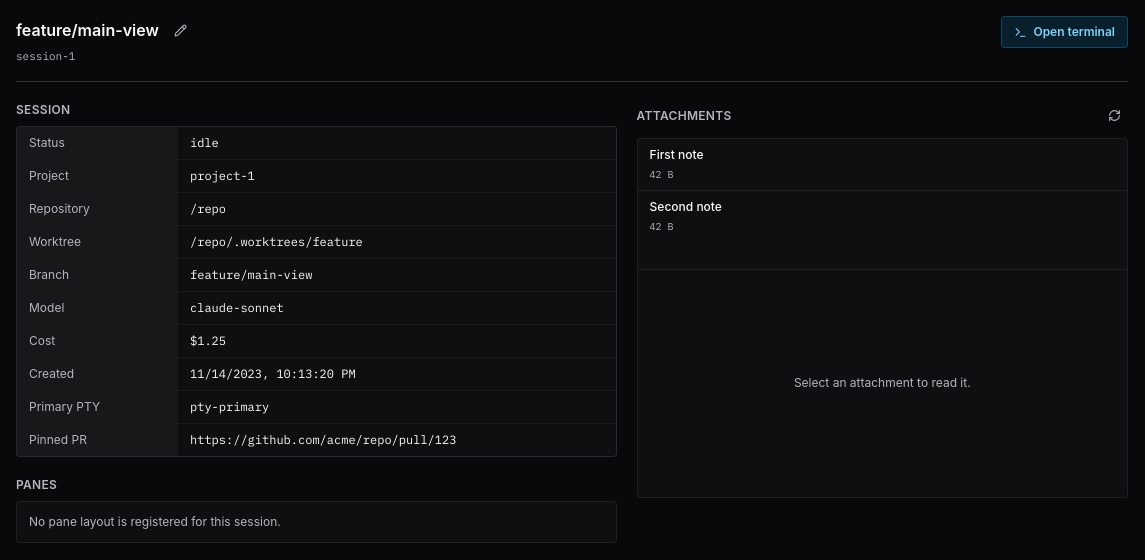
SessionDetailView › ignores stale attachment reads when a later selection resolves first
This screenshot has width=1145, height=560.
Click the button "First note 42 B": (677, 154) [638,138,1127,190]
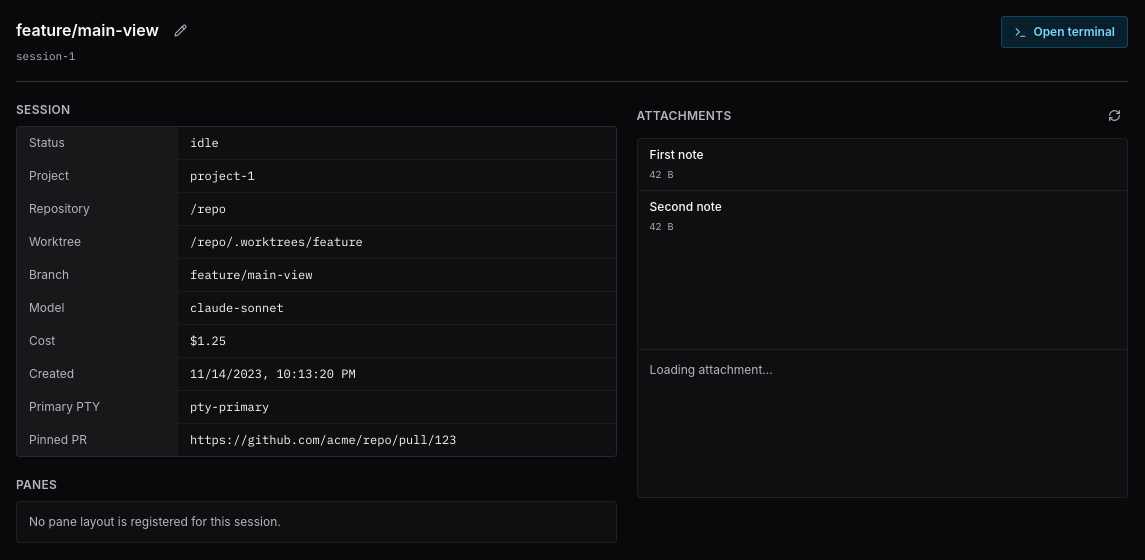
Click the button "Second note 42 B": (686, 206) [638,190,1127,242]
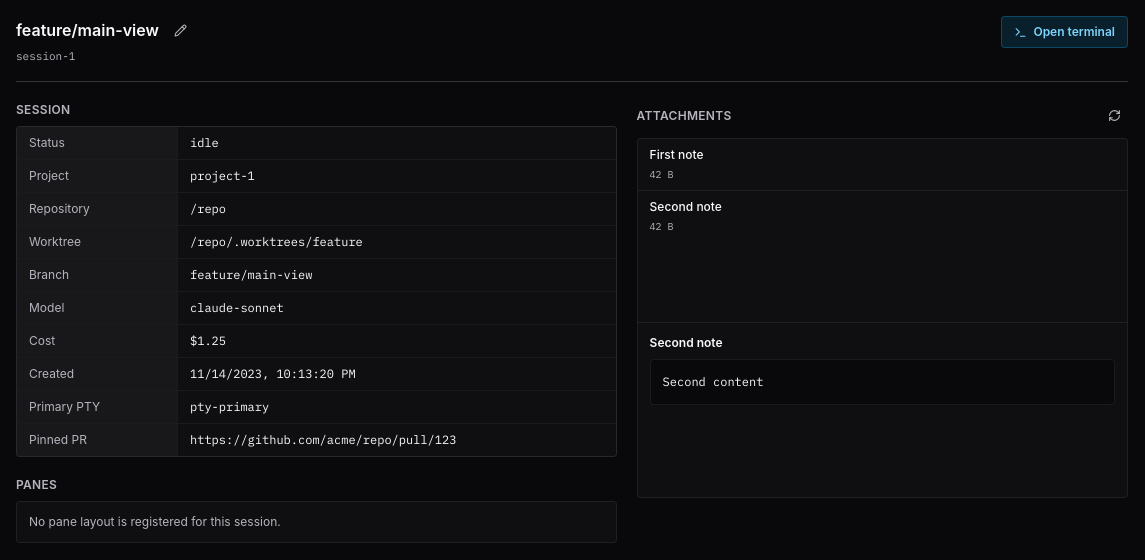
Result: the text "Second content" is shown at [650,358,1115,404]
